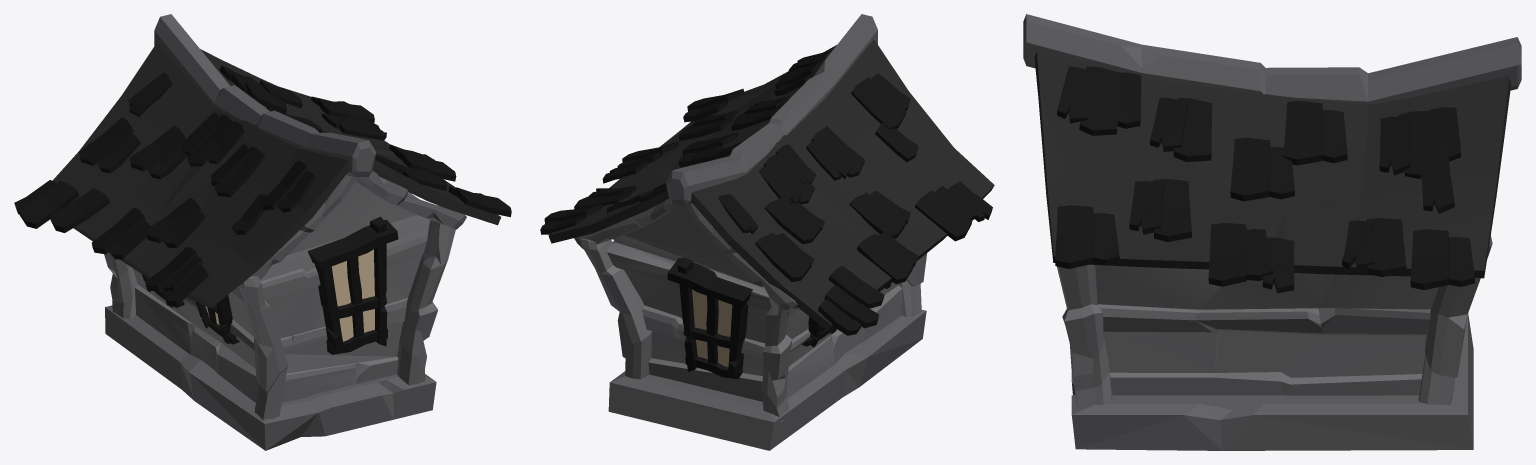
File: WF_LP_HT_Build_HouseRoom.002.2.fbx
3 renders of one model, left to right at view 1: azimuth 30°, elevation 25°; view 2: azimuth 150°, elevation 25°; view 3: azimuth 270°, elevation 25°, orthographic. The views are drawn at different scales.
Visible parts, largest first — view 1: WF_LP_HT_Build_HouseRoom.002.2; view 2: WF_LP_HT_Build_HouseRoom.002.2; view 3: WF_LP_HT_Build_HouseRoom.002.2.
Boxes of the visible parts, bbox=[...] form: WF_LP_HT_Build_HouseRoom.002.2: bbox=[14, 14, 511, 450]; WF_LP_HT_Build_HouseRoom.002.2: bbox=[540, 14, 994, 450]; WF_LP_HT_Build_HouseRoom.002.2: bbox=[1023, 14, 1521, 450].
Size of the model in its own units: 5.57 by 4.67 by 5.58.
